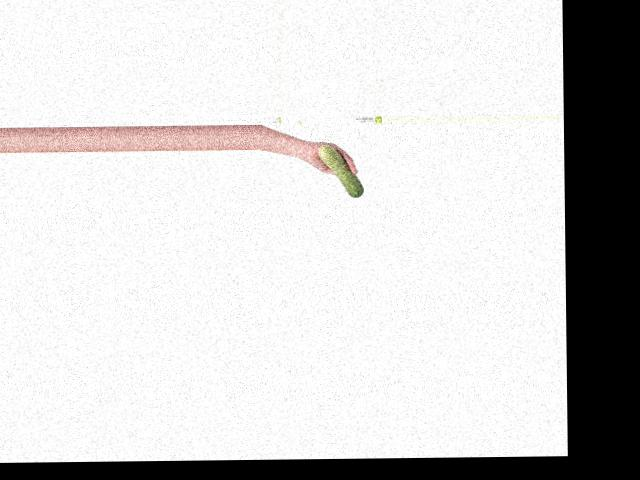cucumber: (318, 144, 362, 197)
